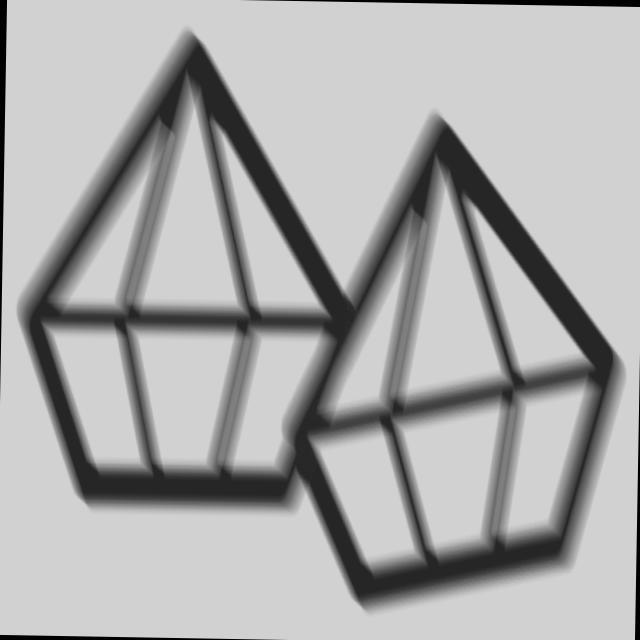diamond: (271, 99, 636, 623), (5, 13, 372, 527)
